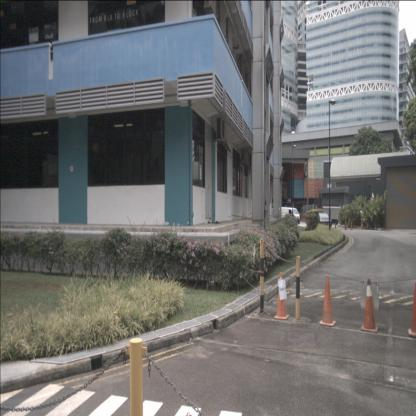human-pedestrian-adult: (153, 144, 161, 186), (145, 156, 155, 186)
movable_object-trafficcone: (359, 278, 379, 332), (319, 275, 336, 327), (272, 272, 290, 320), (407, 280, 416, 338), (344, 221, 348, 230), (360, 220, 363, 230), (350, 221, 353, 230), (334, 222, 337, 230)
vehicle-car: (277, 205, 301, 225), (314, 212, 332, 228)
vehicle-truck: (322, 206, 347, 223)
